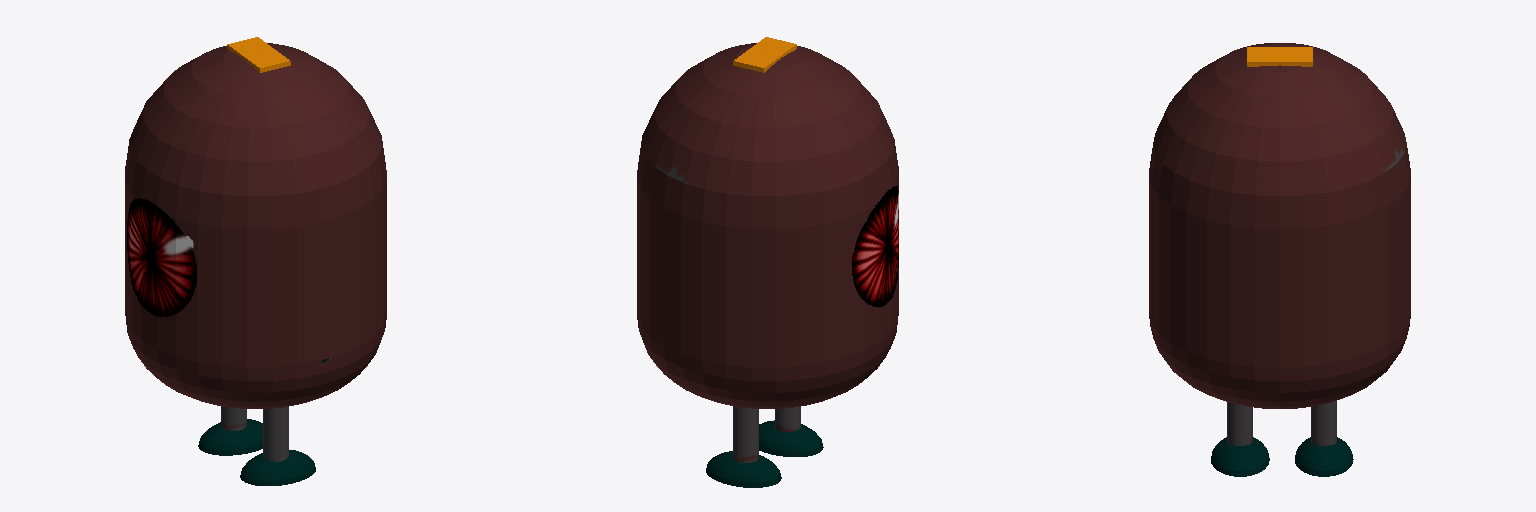
The picture shows the model from 3 angles: view 1: azimuth 30°, elevation 25°; view 2: azimuth 150°, elevation 25°; view 3: azimuth 270°, elevation 25°; orthographic projection.
Parts seen in each view (by area): view 1: Cube.002; view 2: Cube.002; view 3: Cube.002.
Part boxes in pixels (x1,y1,x2,y2): Cube.002: (125,37,386,485); Cube.002: (637,37,898,487); Cube.002: (1149,43,1410,476).
Bounding box in the file's own units: 2.44 × 4.16 × 2.44.
1 materials, 1 textured.